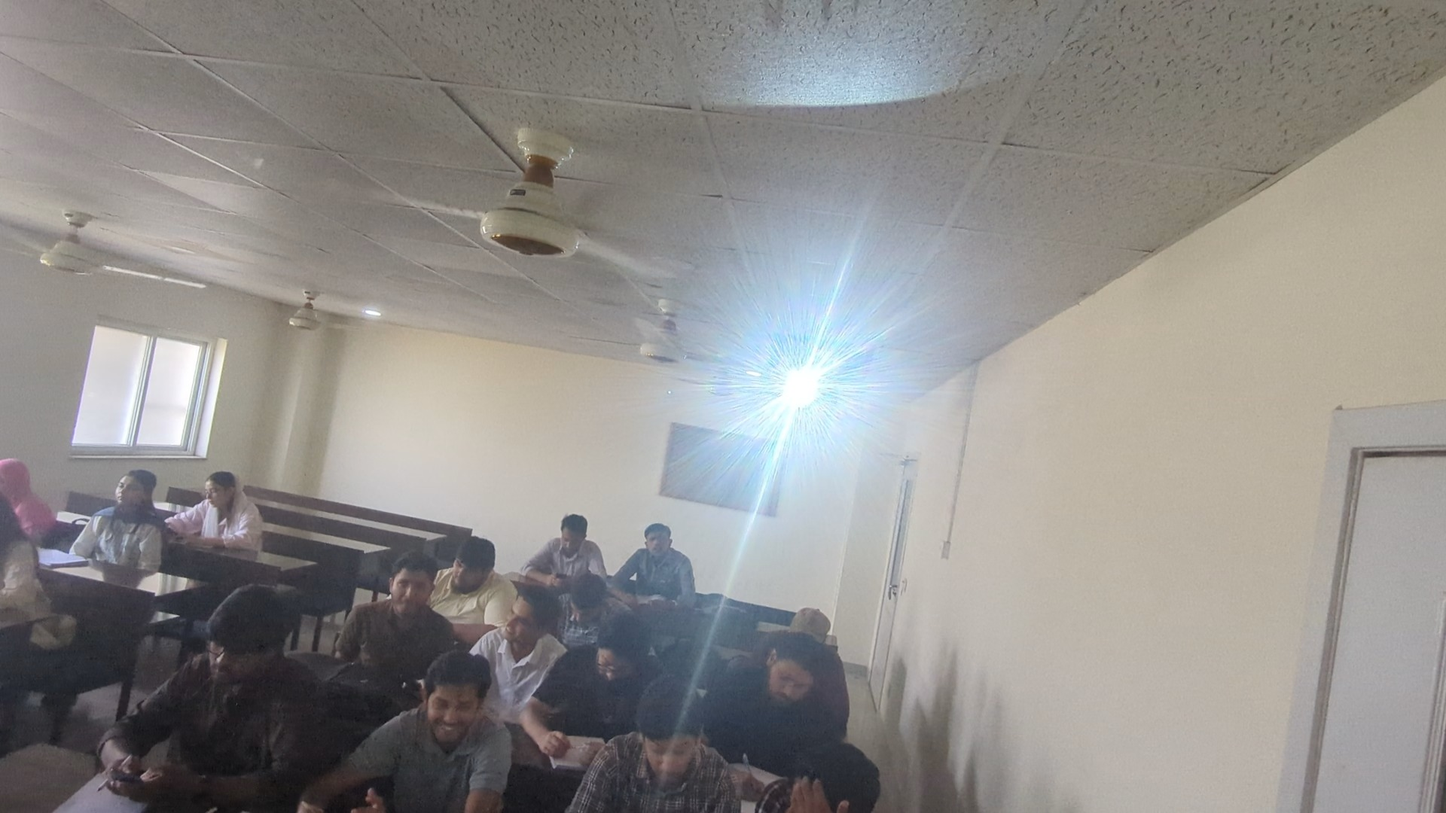look_forward: (320, 647, 500, 798), (334, 551, 463, 671), (466, 583, 579, 690), (71, 468, 174, 579), (626, 517, 703, 612)
read: (585, 682, 735, 804)
using_device: (95, 583, 322, 799), (511, 513, 626, 601), (170, 460, 265, 556)
write: (725, 625, 824, 794), (534, 623, 643, 768), (441, 528, 495, 636)
